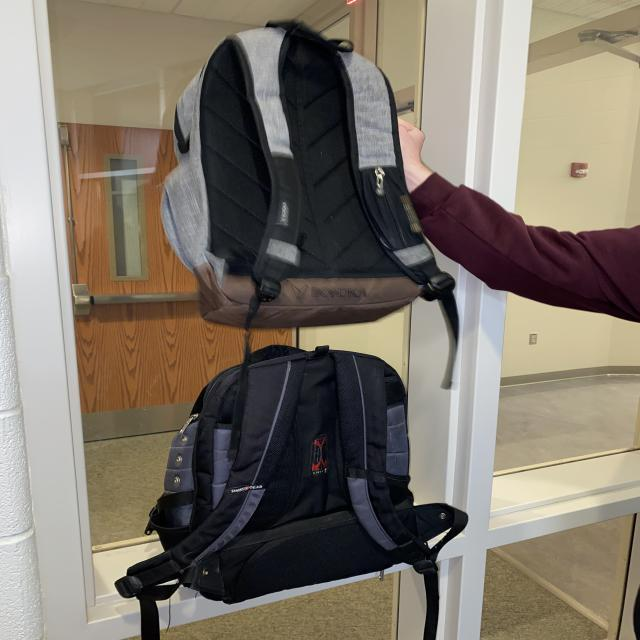Backpacks: (166, 19, 430, 330), (154, 345, 453, 604)
